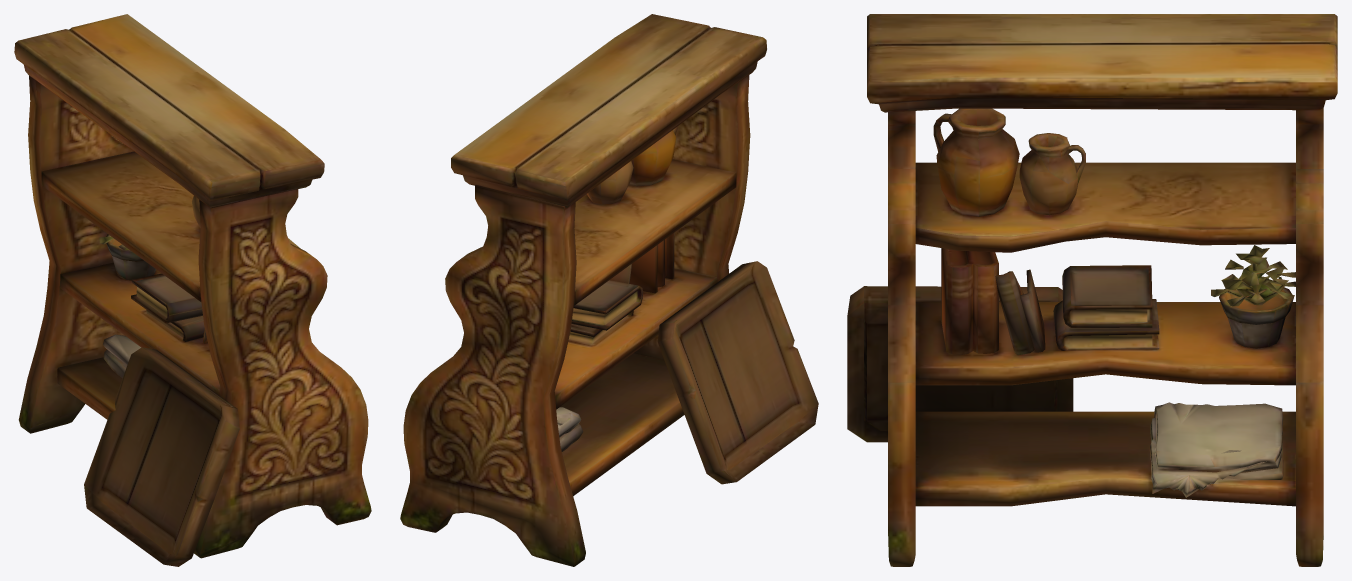
The model's file is wyn_furn_cottage_shelf.glb.
3 renders of one model, left to right at view 1: azimuth 30°, elevation 25°; view 2: azimuth 150°, elevation 25°; view 3: azimuth 270°, elevation 25°, orthographic. The views are drawn at different scales.
Visible parts, largest first — view 1: tripo_node_7c6bd948-7091-410b-82e9-7b6a40cd8107; view 2: tripo_node_7c6bd948-7091-410b-82e9-7b6a40cd8107; view 3: tripo_node_7c6bd948-7091-410b-82e9-7b6a40cd8107.
Boxes of the visible parts, x1,y1,x2,y2 form: tripo_node_7c6bd948-7091-410b-82e9-7b6a40cd8107: (14,14,371,566); tripo_node_7c6bd948-7091-410b-82e9-7b6a40cd8107: (400,14,818,566); tripo_node_7c6bd948-7091-410b-82e9-7b6a40cd8107: (847,14,1337,566).
Size of the model in its own units: 1.07 by 1.8 by 1.74.
Materials: 1 (1 with a texture image).
